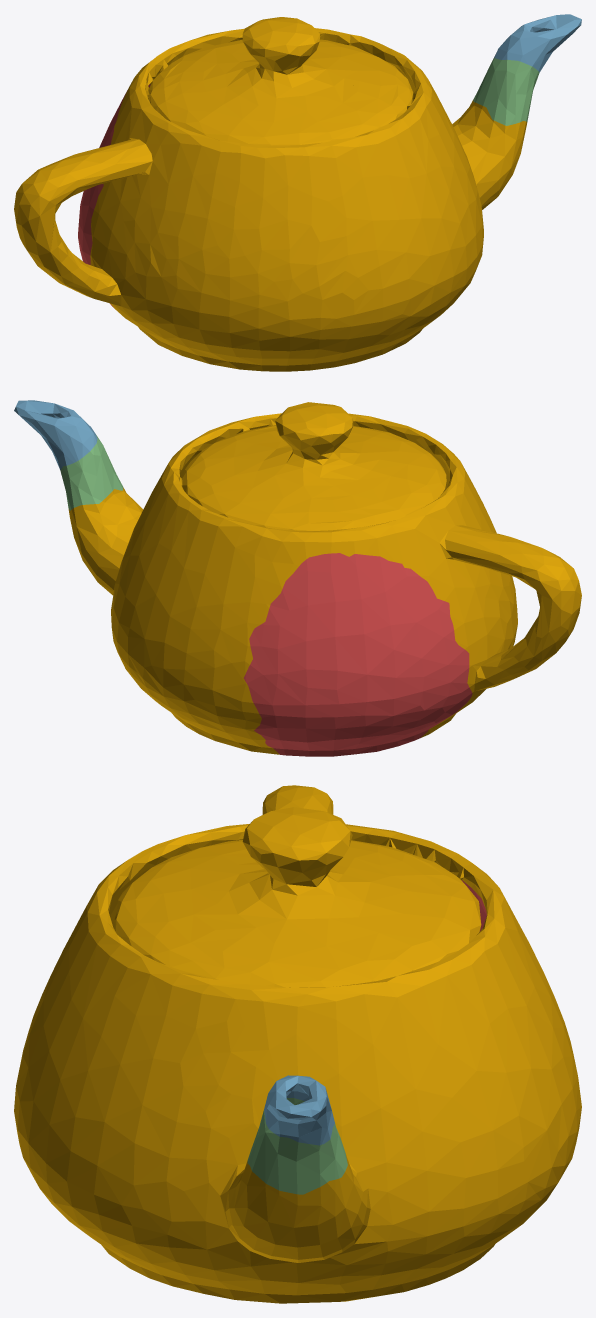
Rendered from fractured_65_4pcs.glb.
3 renders of one model, top to bottom at view 1: azimuth 30°, elevation 25°; view 2: azimuth 150°, elevation 25°; view 3: azimuth 270°, elevation 25°, orthographic. The views are drawn at different scales.
Visible parts, largest first — view 1: piece_0.obj, piece_3.obj, piece_2.obj, piece_1.obj; view 2: piece_0.obj, piece_1.obj, piece_2.obj, piece_3.obj; view 3: piece_0.obj, piece_3.obj, piece_2.obj.
Boxes of the visible parts, <box> form: piece_0.obj: <box>14,17,527,371</box>; piece_3.obj: <box>473,58,539,125</box>; piece_2.obj: <box>494,14,581,72</box>; piece_1.obj: <box>78,84,150,307</box>; piece_0.obj: <box>68,402,581,754</box>; piece_1.obj: <box>243,553,472,756</box>; piece_2.obj: <box>14,400,97,469</box>; piece_3.obj: <box>60,435,123,510</box>; piece_0.obj: <box>14,785,581,1303</box>; piece_3.obj: <box>247,1098,347,1194</box>; piece_2.obj: <box>264,1075,334,1145</box>.
Bounding box in the file's own units: 1 × 0.496 × 0.6271.
